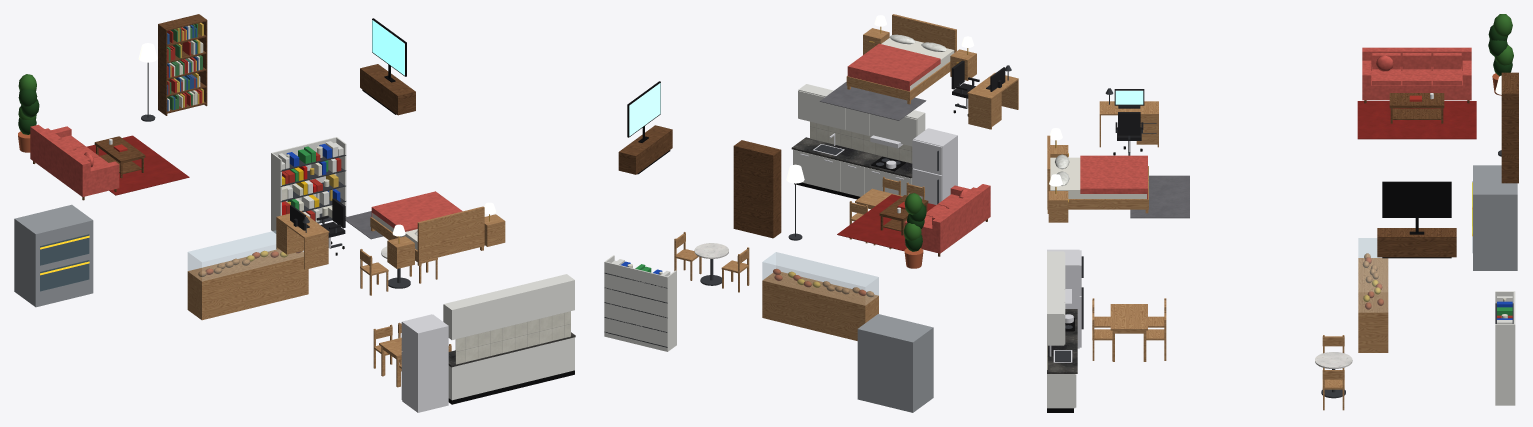
The model's file is i_bakery_corner.gltf.
3 views of the same model, side by side, from view 1: azimuth 30°, elevation 25°; view 2: azimuth 150°, elevation 25°; view 3: azimuth 270°, elevation 25° (orthographic). The views are drawn at different scales.
Visible parts, largest first — view 1: I_bakery_corner; view 2: I_bakery_corner; view 3: I_bakery_corner.
Part boxes in pixels (x1=…): I_bakery_corner: x1=14, y1=14, x2=575, y2=412; I_bakery_corner: x1=604, y1=14, x2=1018, y2=412; I_bakery_corner: x1=1047, y1=14, x2=1518, y2=412.
Bounding box in the file's own units: 8.33 × 5.4 × 9.52.
Materials: 37 (10 with a texture image).
